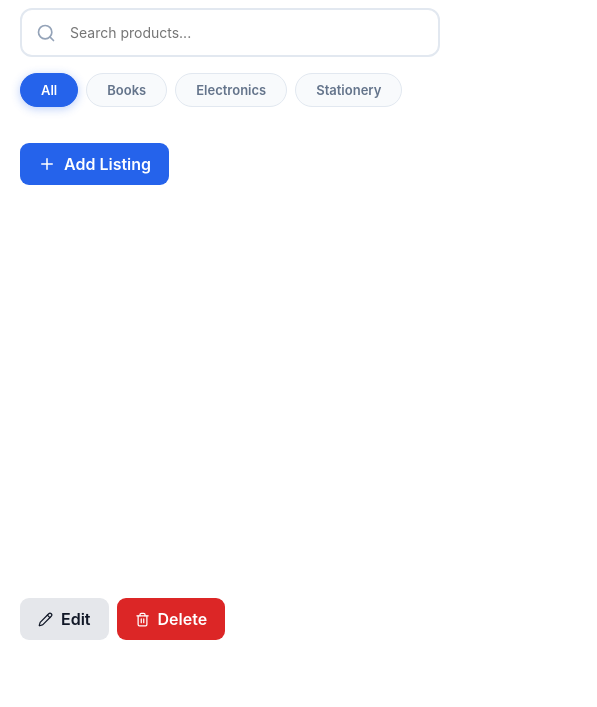
it: Marketplace Page › opens the edit form with existing product details
The image size is (597, 707).
(page scrolled)
Click the button "Edit": (64, 619) x1=20 y1=598 x2=108 y2=640
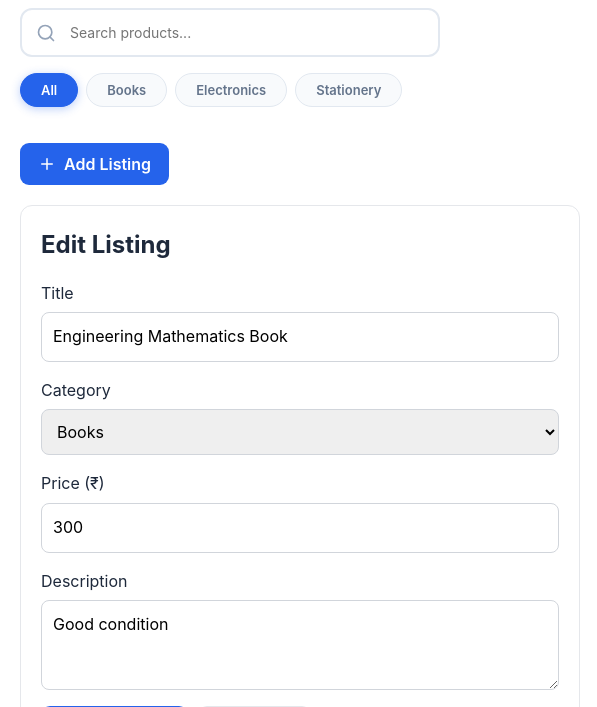
Now the heading "Edit Listing" is shown, box x1=41 y1=230 x2=171 y2=259
Now the field labelled "Title" holds "Engineering Mathematics Book", box x1=41 y1=312 x2=559 y2=362
Now the number field labelled "Price (₹)" holds "300", box x1=41 y1=503 x2=559 y2=553
